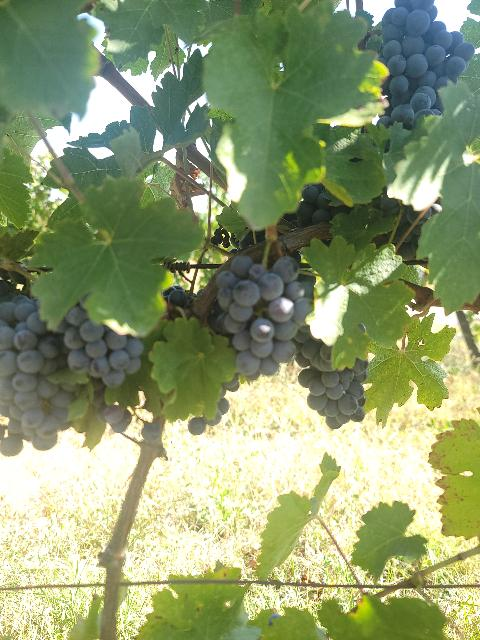grapes: (366, 0, 475, 129), (0, 294, 75, 455), (216, 255, 312, 380), (294, 326, 368, 429), (63, 305, 142, 388)
